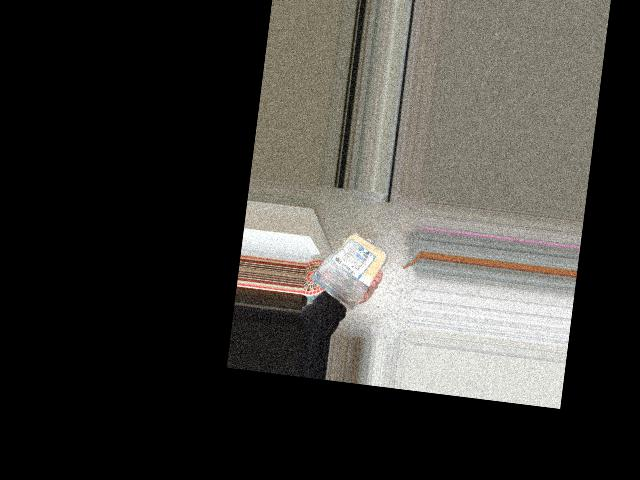cheese: (310, 223, 382, 307)
